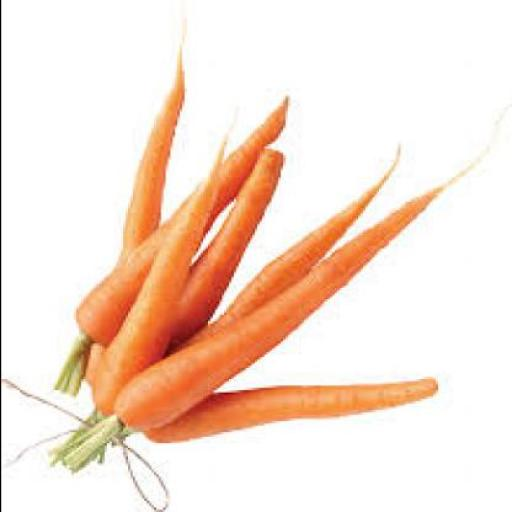biodegradable: (47, 160, 460, 468), (52, 93, 286, 394), (162, 144, 397, 352), (90, 139, 224, 415), (80, 18, 178, 388), (142, 375, 434, 441)
